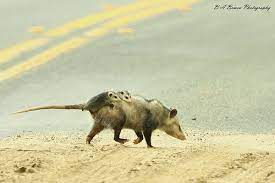opossum: (15, 90, 187, 148)
